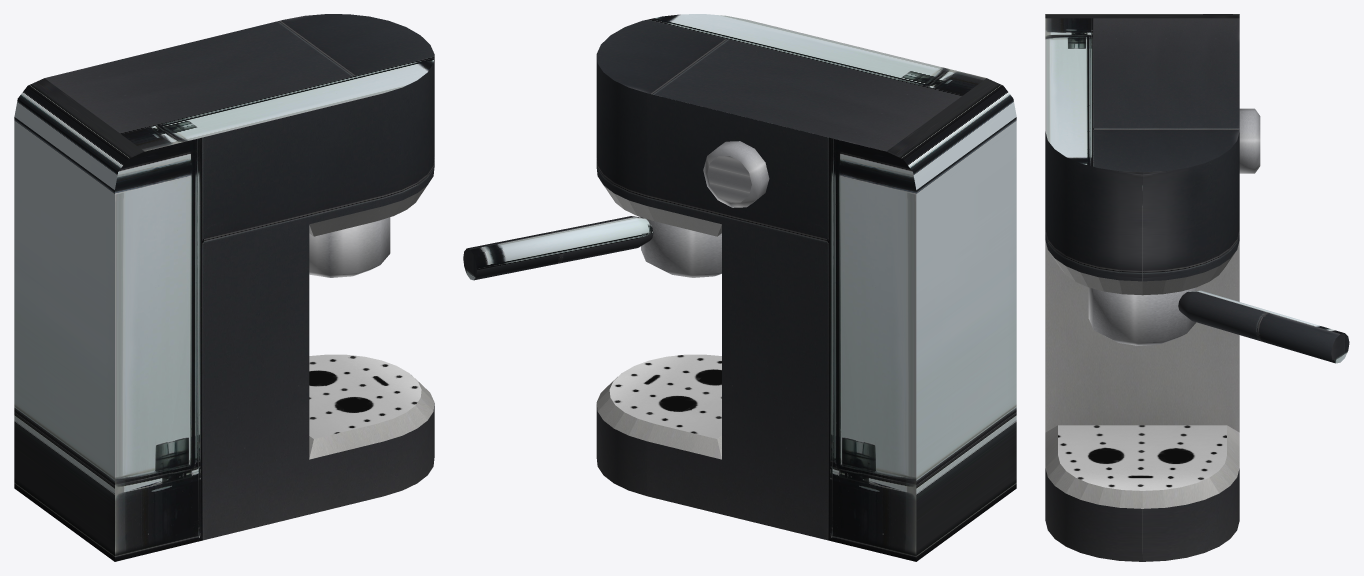
The picture shows the model from 3 angles, left to right: view 1: azimuth 30°, elevation 25°; view 2: azimuth 150°, elevation 25°; view 3: azimuth 270°, elevation 25°; orthographic projection. The views are drawn at different scales.
Parts seen in each view (by area): view 1: Coffee_machine_4; view 2: Coffee_machine_4; view 3: Coffee_machine_4.
Boxes of the visible parts, box(x1,y1,x2,y2) form: Coffee_machine_4: box(14, 14, 434, 561); Coffee_machine_4: box(463, 14, 1016, 561); Coffee_machine_4: box(1045, 14, 1349, 561).
Size of the model in its own units: 0.3476 by 0.2333 by 0.33.
6 materials, 6 textured.
